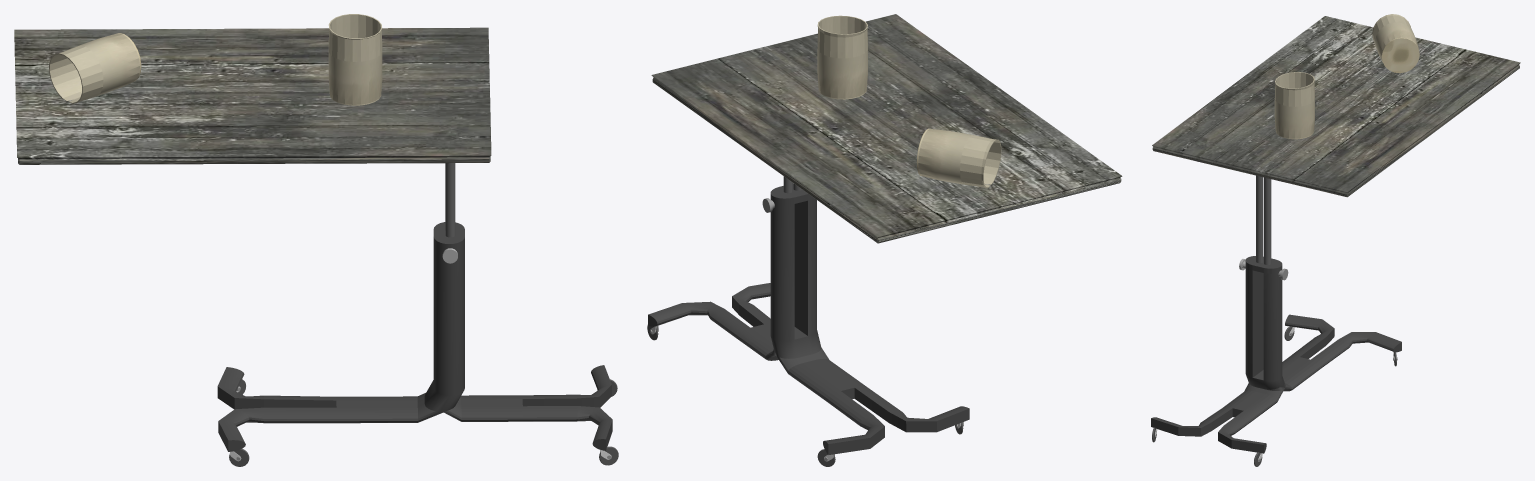
File: side_table.glb
3 views of the same model, side by side, from view 1: azimuth 30°, elevation 25°; view 2: azimuth 150°, elevation 25°; view 3: azimuth 270°, elevation 25° (orthographic). The views are drawn at different scales.
Visible parts, largest first — view 1: table:pCube2, beaker2:pCylinder1, pCylinder1; view 2: table:pCube2, pCylinder1, beaker2:pCylinder1; view 3: table:pCube2, beaker2:pCylinder1, pCylinder1.
Part boxes in pixels (x1=…): table:pCube2: x1=14, y1=27, x2=618, y2=466; beaker2:pCylinder1: x1=328, y1=14, x2=382, y2=105; pCylinder1: x1=49, y1=33, x2=141, y2=103; table:pCube2: x1=647, y1=14, x2=1122, y2=466; pCylinder1: x1=916, y1=128, x2=1001, y2=188; beaker2:pCylinder1: x1=817, y1=15, x2=867, y2=99; table:pCube2: x1=1151, y1=16, x2=1520, y2=466; beaker2:pCylinder1: x1=1274, y1=72, x2=1314, y2=139; pCylinder1: x1=1372, y1=14, x2=1419, y2=73.
Size of the model in its own units: 1.18 by 0.8343 by 0.9184.
Materials: 8 (2 with a texture image).
